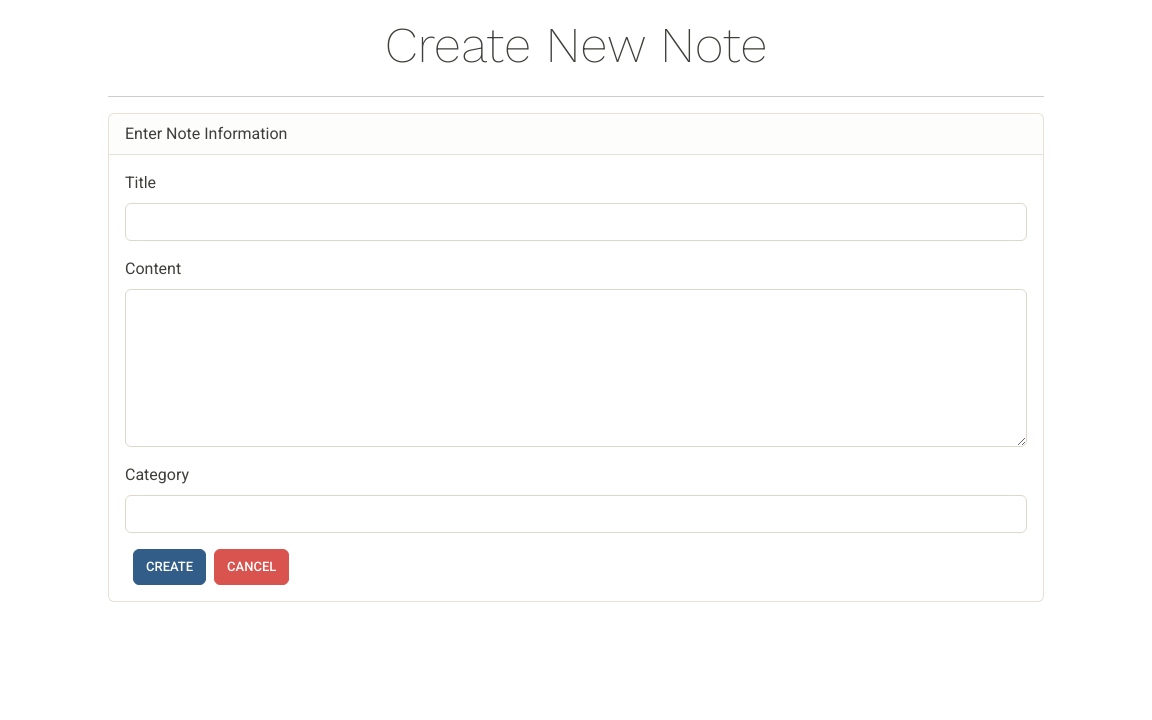
Test: CreateNote › should update Markdown preview when content is entered
In the text box labelled "Content": (576, 368) [125, 289, 1027, 447], type "### This is a test note."
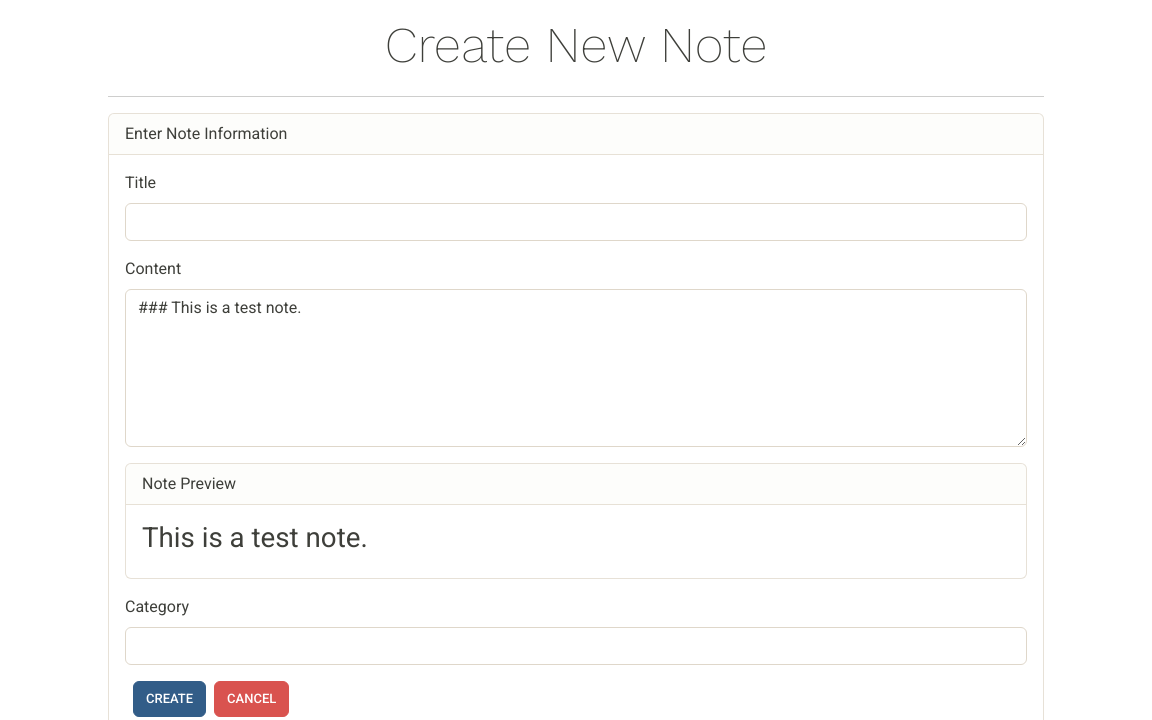
Result: the text "Note Preview" is shown at [126, 464, 1026, 505]
Result: the heading "This is a test note." is shown at [142, 521, 368, 554]
